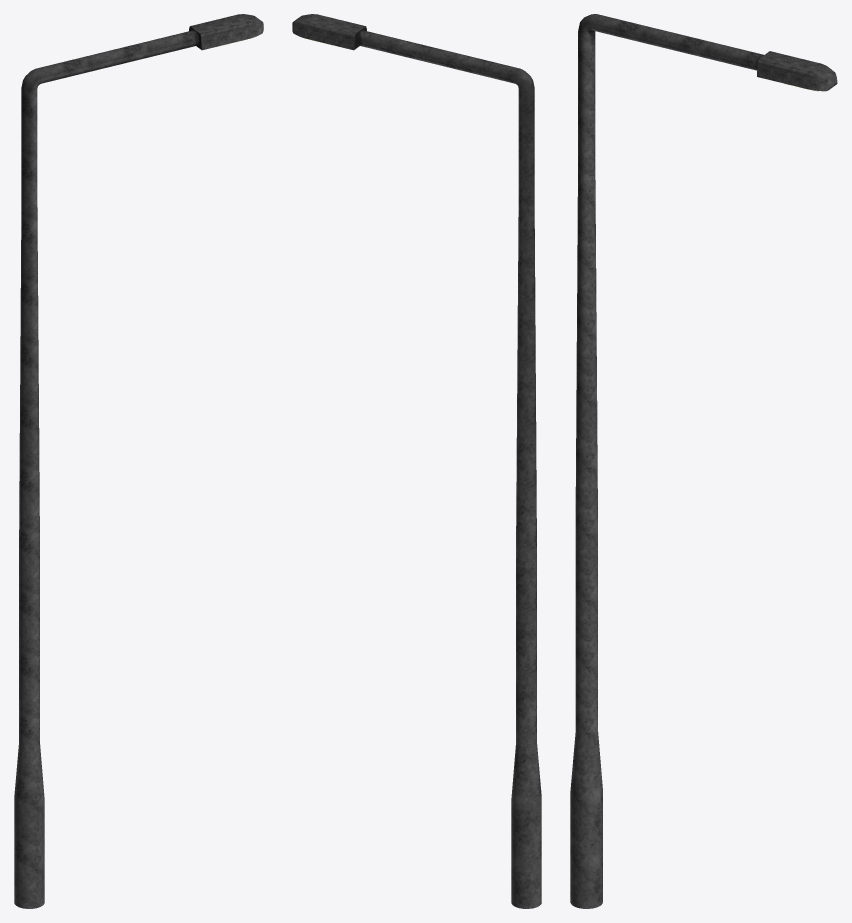
File: lamp_post.gltf
3 renders of one model, left to right at view 1: azimuth 30°, elevation 25°; view 2: azimuth 150°, elevation 25°; view 3: azimuth 330°, elevation 25°, orthographic. The views are drawn at different scales.
Visible parts, largest first — view 1: pCylinder2; view 2: pCylinder2; view 3: pCylinder2.
Boxes of the visible parts, box(x1,y1,x2,y2) form: pCylinder2: box(14, 14, 263, 908); pCylinder2: box(292, 14, 541, 908); pCylinder2: box(570, 14, 837, 908).
Size of the model in its own units: 1.22 by 3.96 by 0.1317.
1 material, 1 textured.
